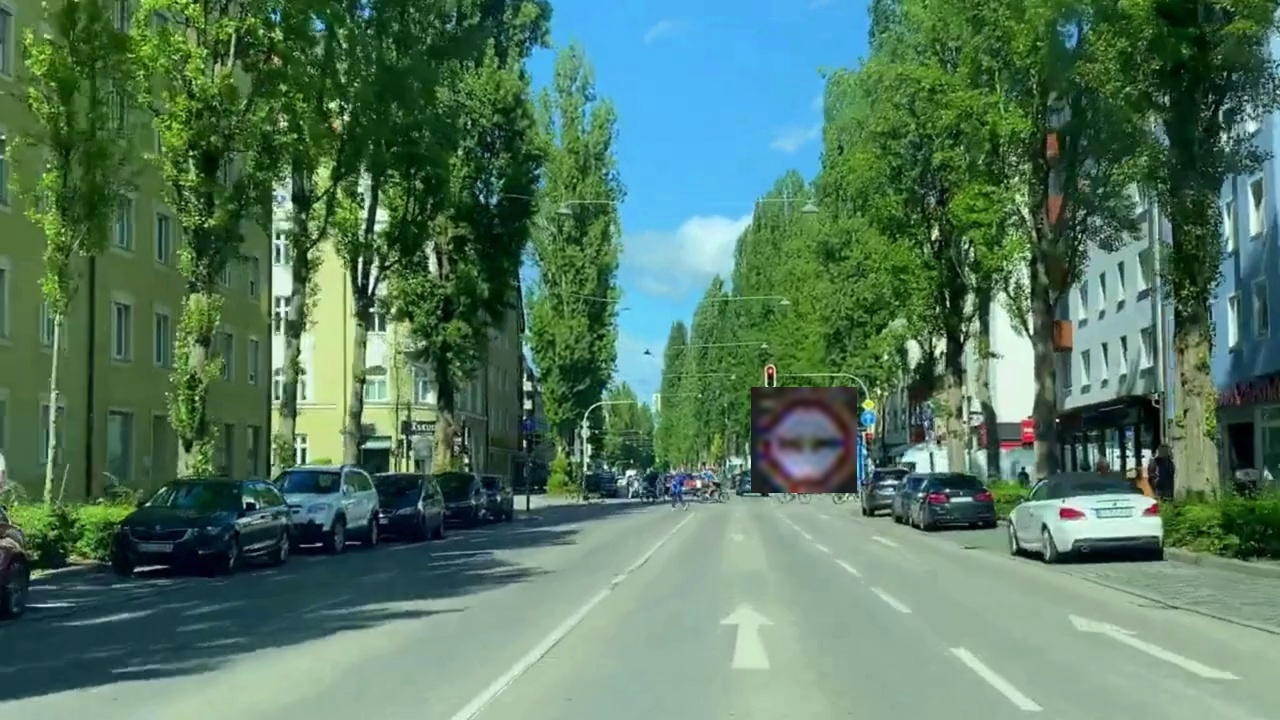No passing: (751, 387, 857, 493)
